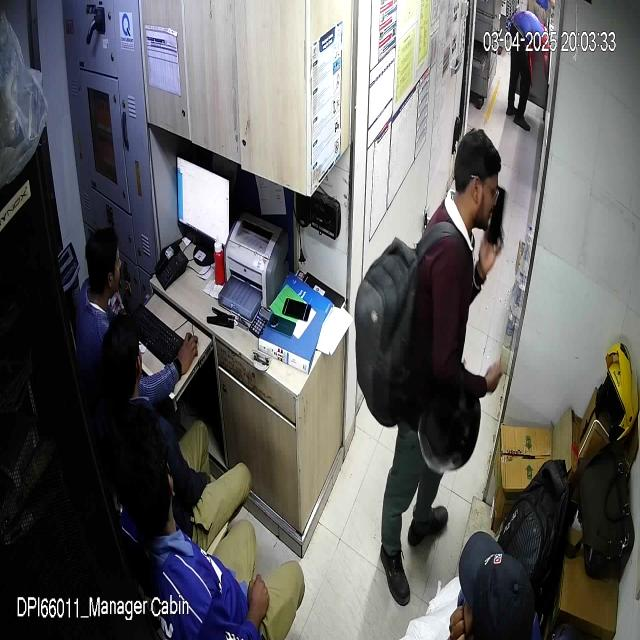helmet: (457, 531, 536, 639), (417, 390, 481, 474), (596, 343, 639, 445)
no_helmet: (107, 403, 177, 534), (454, 129, 501, 234), (101, 310, 143, 399), (85, 225, 121, 303)
